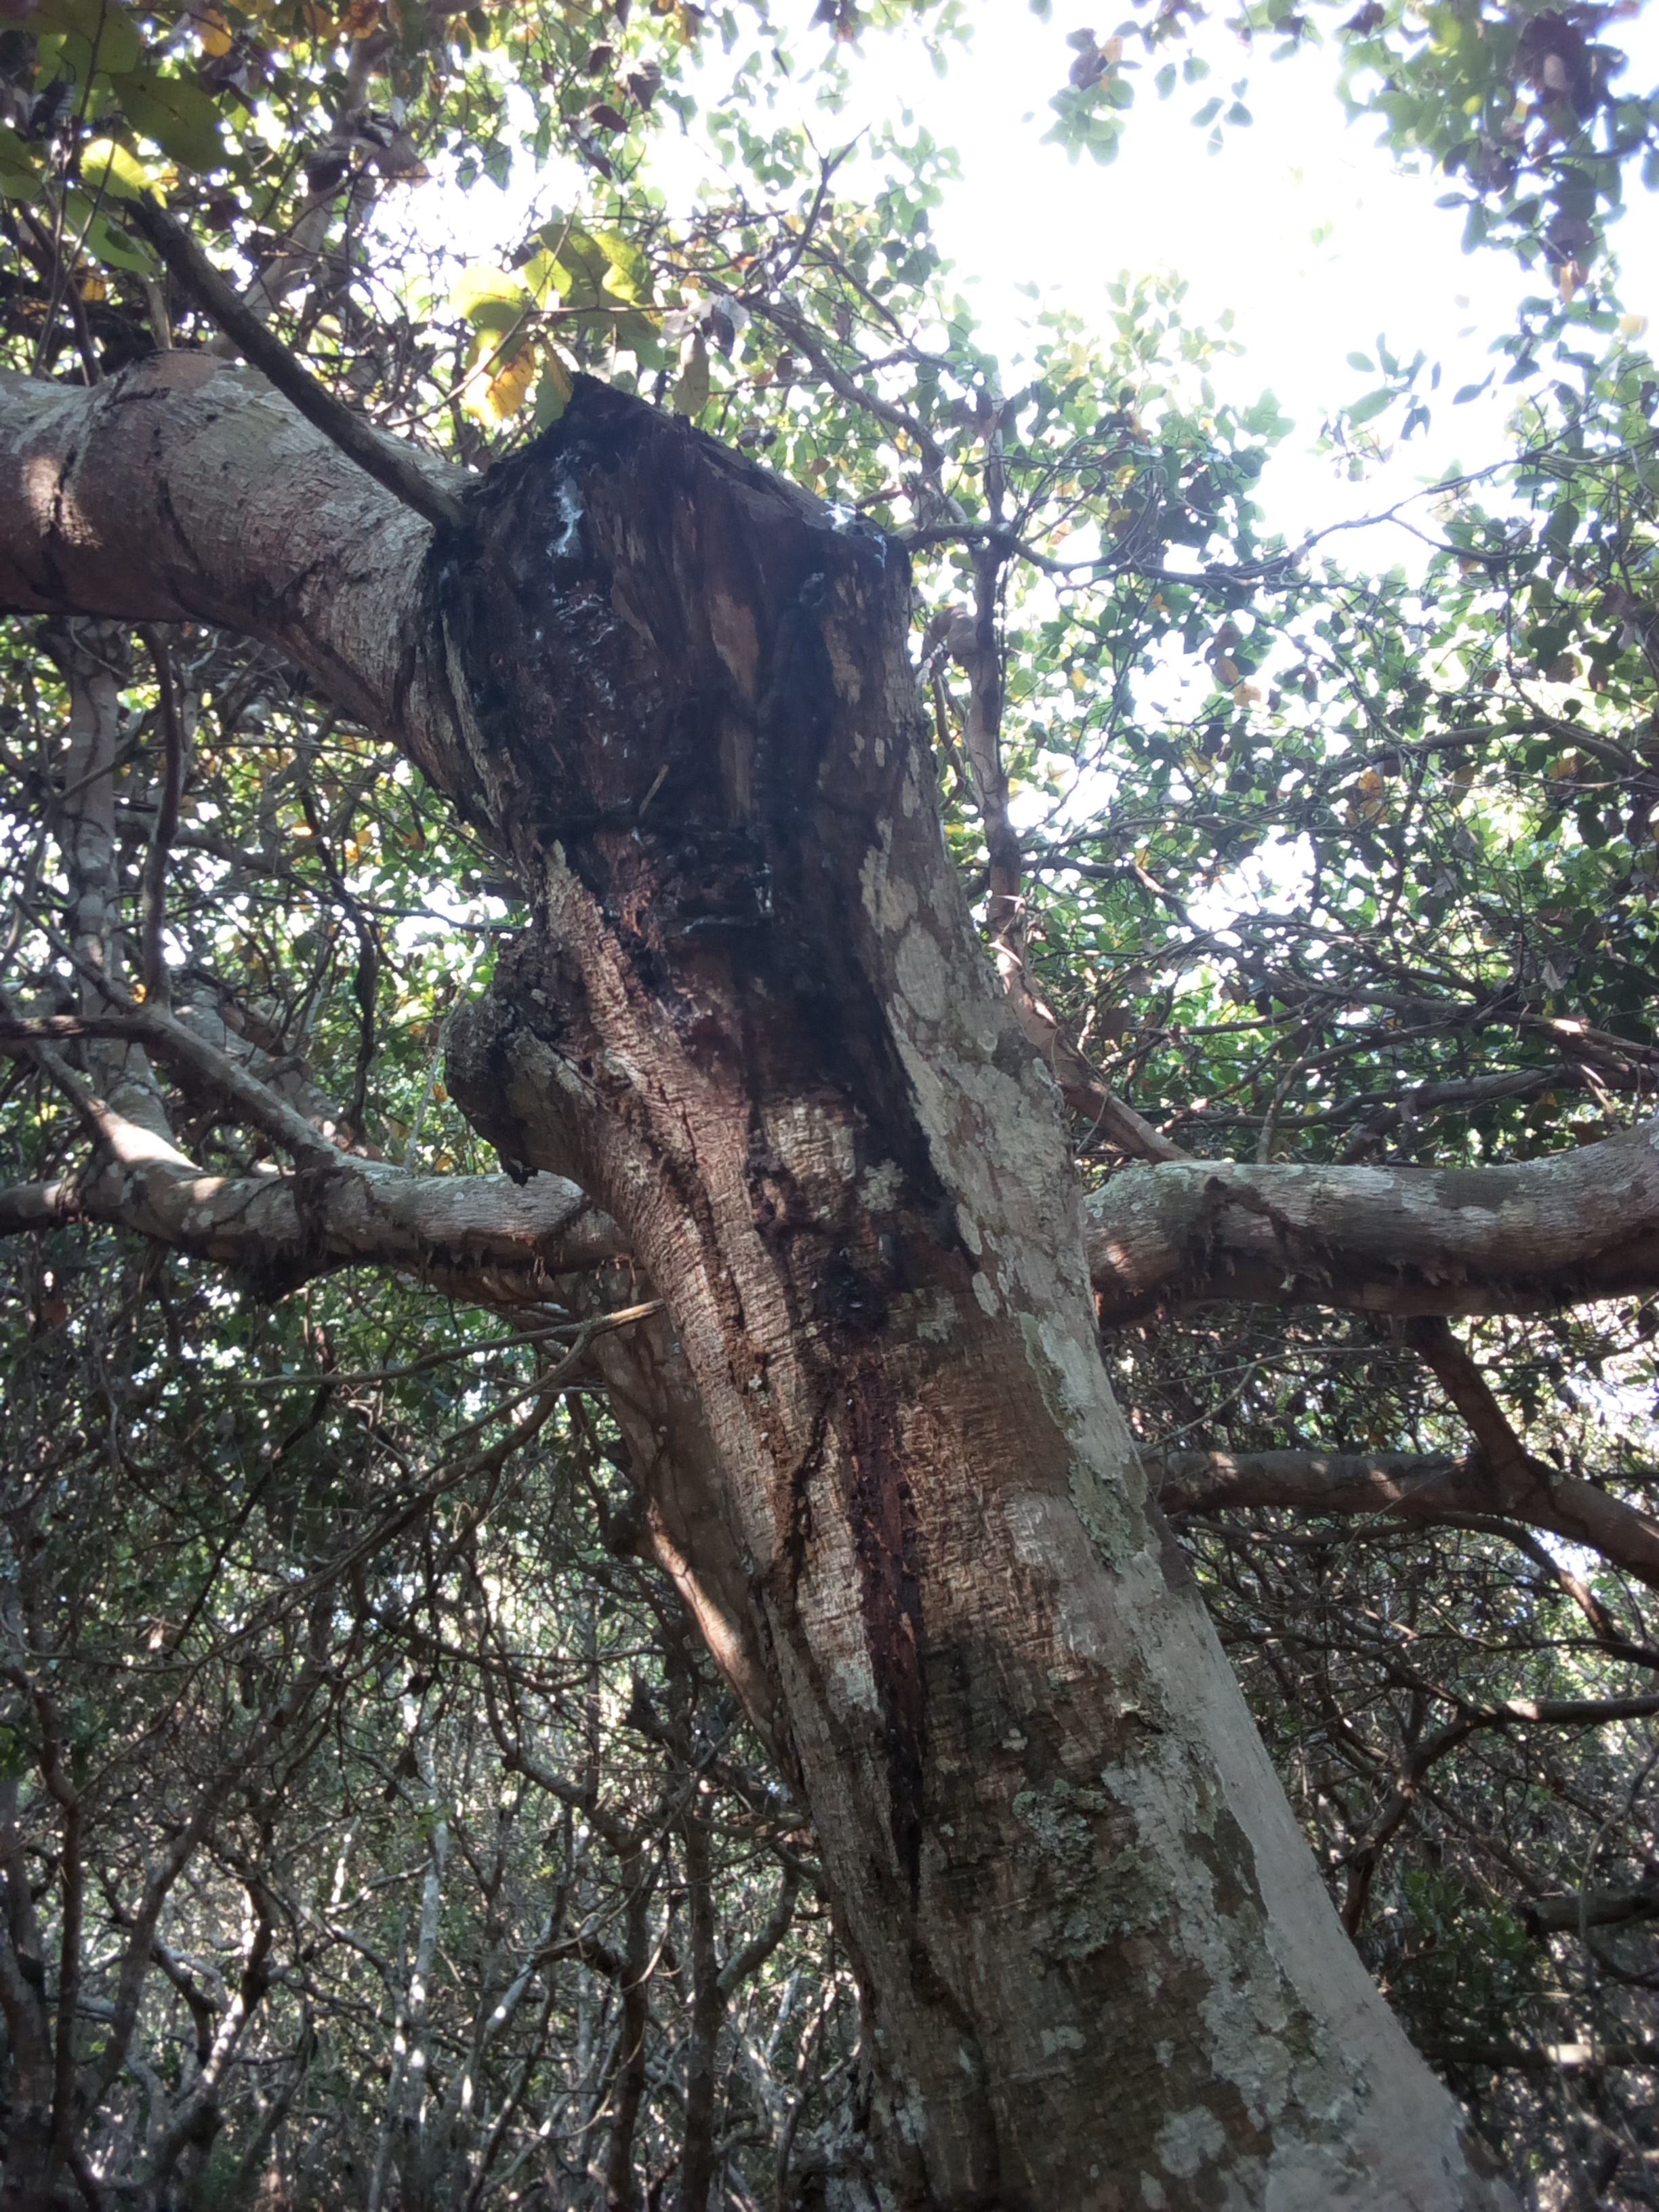Termites: (680, 1150, 915, 1629), (145, 1163, 568, 1278)
